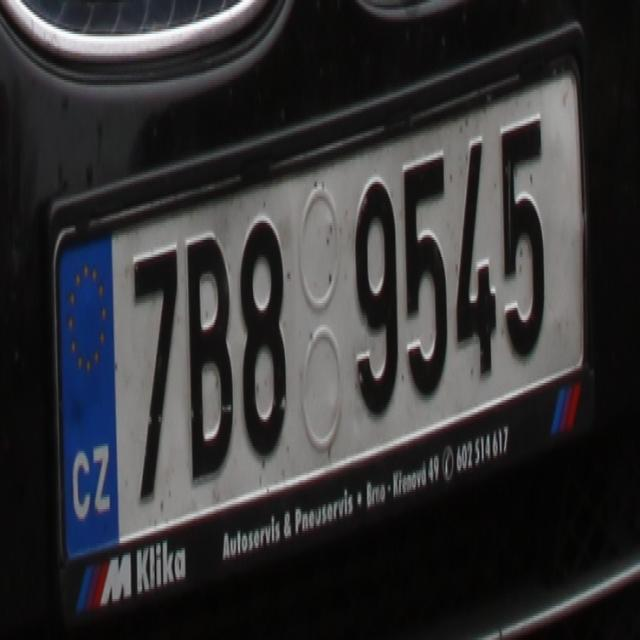4: (451, 136, 501, 380)
5: (500, 104, 546, 354), (402, 153, 445, 388)
7: (129, 233, 182, 516)
8: (238, 216, 291, 463)
9: (352, 172, 400, 417)
B: (184, 230, 237, 494)
